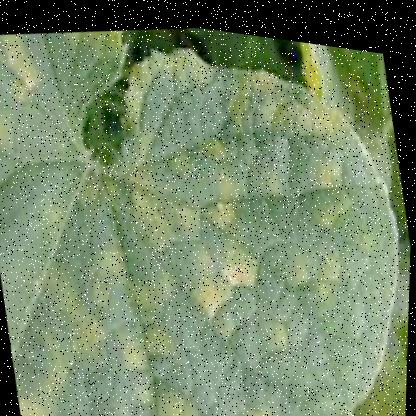DownyMildew: (119, 28, 415, 415), (0, 158, 296, 415)
